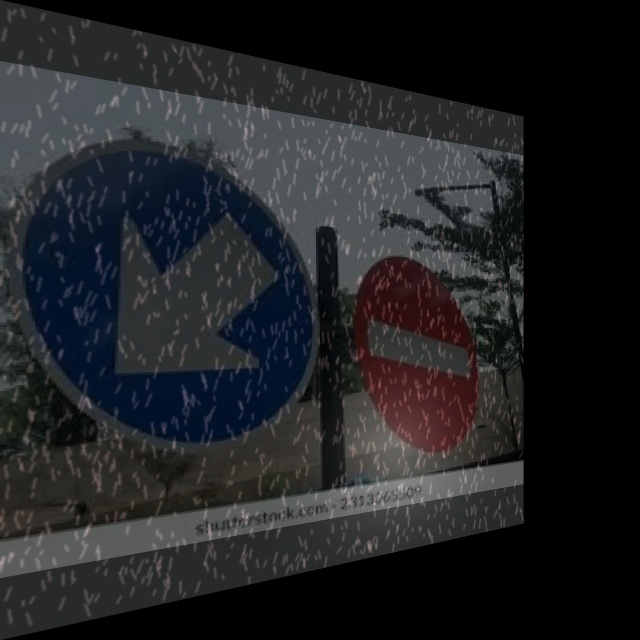Compulsory_Keep_Left: (17, 131, 325, 446)
